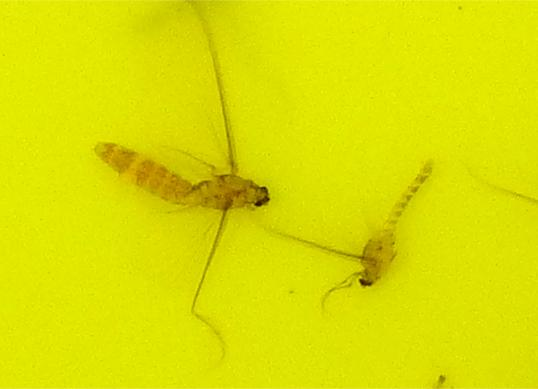Ephemeroptera: (100, 100, 273, 259), (355, 156, 438, 289)
